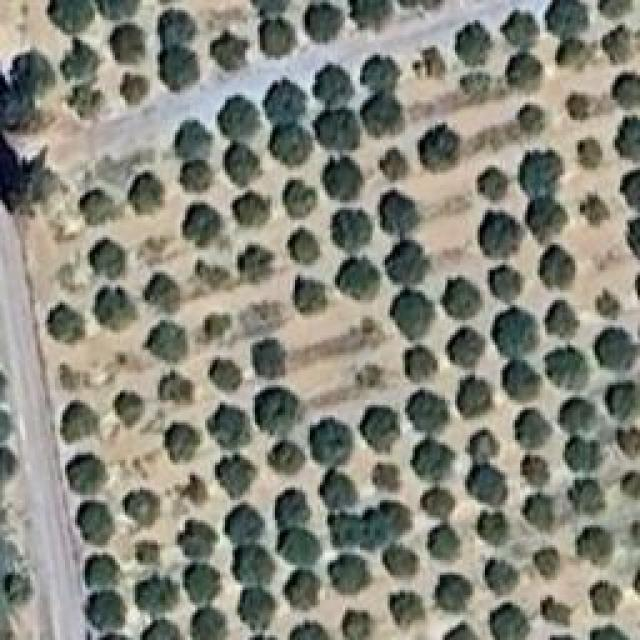Tree: (328, 504, 412, 546), (8, 48, 61, 100), (386, 288, 438, 338), (213, 448, 261, 499), (490, 305, 537, 356), (253, 388, 301, 437), (473, 210, 520, 260), (418, 125, 469, 171), (487, 597, 540, 640), (308, 415, 356, 462), (325, 207, 375, 252), (337, 253, 382, 303), (203, 400, 253, 445), (385, 240, 432, 287), (283, 275, 332, 320), (260, 77, 307, 123), (215, 95, 261, 142), (375, 190, 421, 237), (407, 387, 454, 433), (508, 405, 555, 451), (535, 245, 579, 294), (95, 283, 139, 332), (310, 108, 362, 149), (135, 572, 181, 618), (232, 585, 277, 632), (517, 490, 562, 537), (448, 22, 496, 66), (518, 150, 566, 194), (578, 520, 622, 568), (303, 0, 350, 44), (55, 395, 99, 442), (525, 198, 571, 242), (72, 500, 116, 546), (220, 497, 264, 543), (590, 325, 633, 372), (72, 185, 119, 228), (553, 433, 604, 472), (550, 347, 593, 393), (433, 572, 475, 619), (120, 488, 164, 532), (145, 320, 190, 363), (590, 572, 633, 617), (324, 154, 366, 200), (543, 0, 590, 41), (140, 270, 183, 314), (62, 453, 106, 496), (275, 528, 318, 572), (250, 337, 292, 382), (80, 590, 125, 632), (230, 545, 275, 587), (183, 202, 224, 248), (383, 540, 423, 587), (308, 58, 351, 101), (423, 522, 464, 567), (480, 553, 525, 594), (283, 567, 323, 613), (448, 325, 488, 371), (458, 372, 498, 418), (223, 143, 265, 186), (440, 275, 481, 319), (270, 123, 315, 163), (555, 393, 603, 430), (48, 0, 100, 34), (283, 178, 325, 220), (163, 423, 205, 465), (318, 470, 360, 512), (468, 466, 510, 508), (173, 118, 216, 159), (328, 552, 367, 597), (43, 300, 85, 341), (108, 23, 148, 66), (415, 438, 455, 481), (235, 240, 274, 284), (458, 67, 497, 111), (188, 602, 233, 640), (172, 518, 218, 555), (350, 0, 398, 35), (363, 405, 402, 448), (485, 260, 523, 304), (503, 358, 542, 400), (208, 354, 247, 396), (598, 383, 640, 422), (210, 32, 247, 76), (590, 283, 629, 324), (230, 193, 269, 234), (365, 98, 403, 140), (160, 45, 199, 85), (473, 165, 512, 205), (85, 238, 125, 277), (183, 560, 224, 598), (508, 50, 545, 92), (565, 483, 607, 520), (65, 83, 106, 120), (130, 173, 166, 215), (605, 25, 639, 69), (360, 50, 399, 88), (500, 10, 538, 49), (268, 488, 306, 527), (408, 43, 447, 81), (60, 43, 100, 80), (465, 428, 502, 468), (418, 485, 458, 522), (543, 298, 578, 340), (153, 5, 196, 39), (155, 370, 193, 408), (383, 588, 417, 630), (518, 448, 552, 490), (83, 550, 122, 586), (540, 593, 577, 630), (188, 253, 225, 290), (255, 20, 288, 61), (113, 385, 148, 423), (400, 345, 435, 383), (5, 570, 40, 608), (335, 607, 375, 640), (528, 548, 564, 584), (373, 460, 411, 494), (478, 510, 512, 548), (555, 37, 592, 71), (610, 65, 640, 106), (268, 438, 303, 473), (287, 230, 321, 266), (178, 158, 213, 192), (572, 137, 606, 172), (376, 148, 408, 184), (352, 360, 386, 393), (175, 472, 208, 505), (200, 310, 234, 341), (515, 100, 544, 136), (565, 90, 594, 126), (97, 0, 144, 22), (118, 67, 149, 99), (592, 0, 637, 22), (127, 538, 160, 568), (615, 118, 639, 159), (140, 615, 178, 640), (615, 422, 640, 460), (620, 165, 640, 212), (580, 195, 606, 229), (288, 617, 326, 640), (250, 0, 291, 18), (622, 218, 640, 253), (443, 622, 478, 640), (590, 623, 627, 640), (0, 408, 16, 444), (0, 445, 15, 483), (615, 468, 639, 490)
